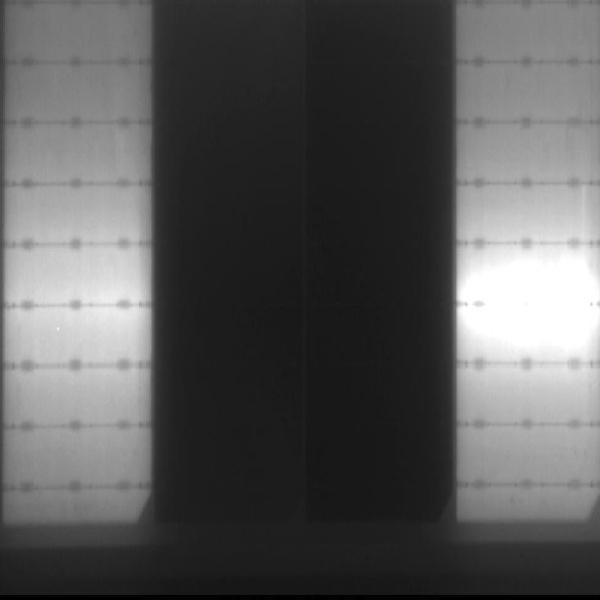hot_spot: (482, 263, 577, 347)
no_electricity: (302, 4, 457, 530), (151, 1, 299, 531), (1, 531, 598, 596)
